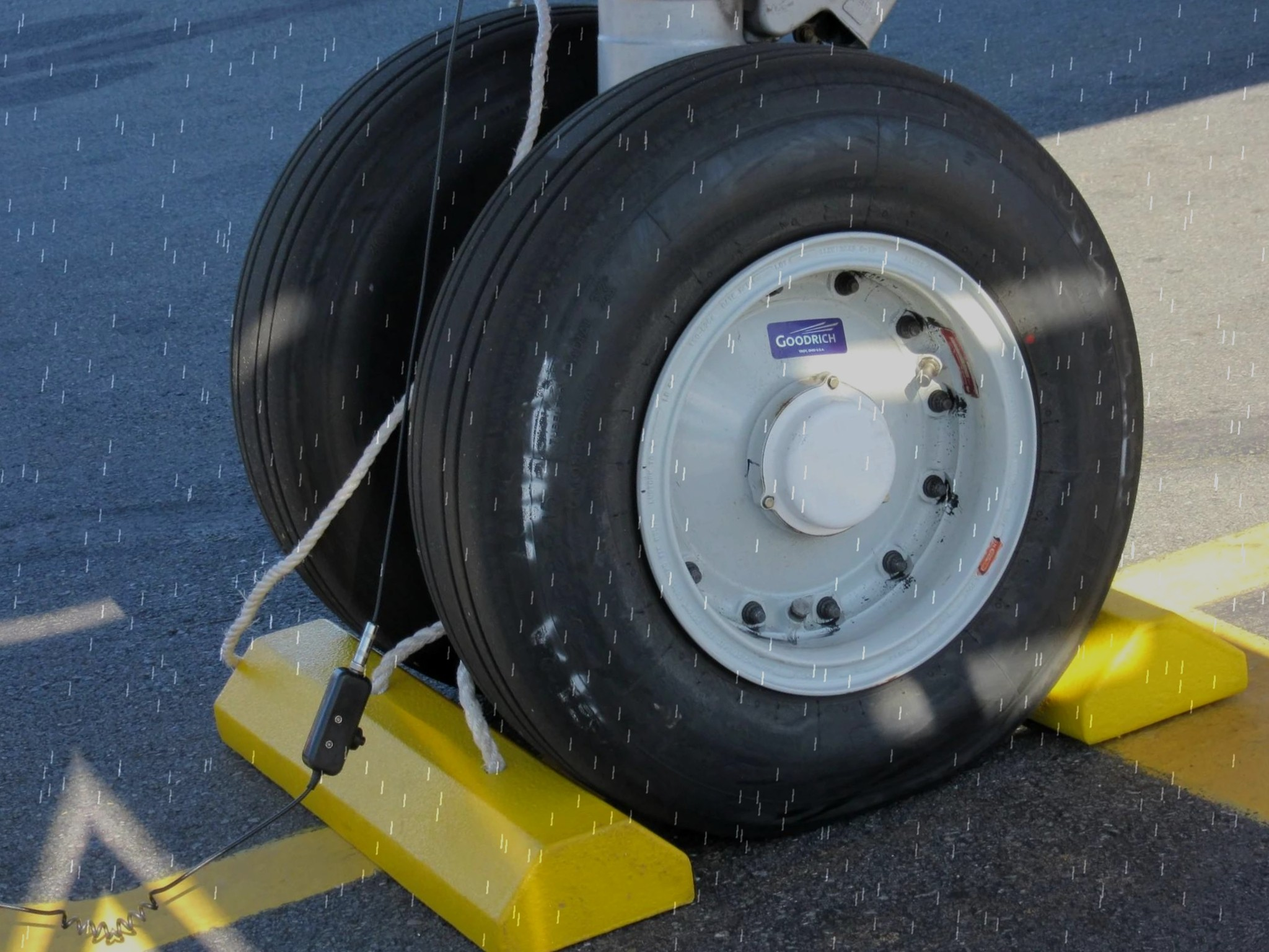chock: (191, 530, 707, 952), (839, 409, 1258, 779)
wheel: (337, 0, 1222, 884), (169, 0, 704, 681)
